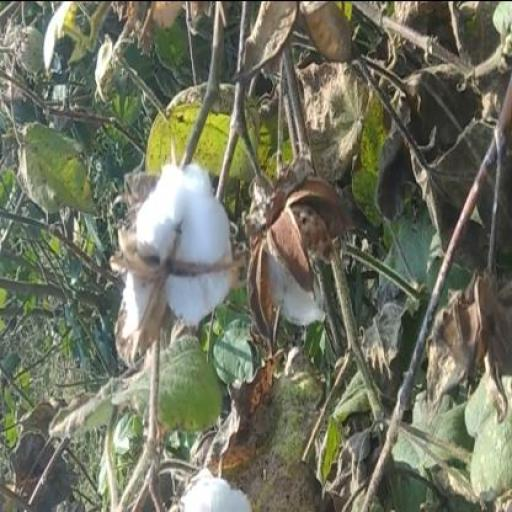cotton_ready: (102, 159, 240, 346)
